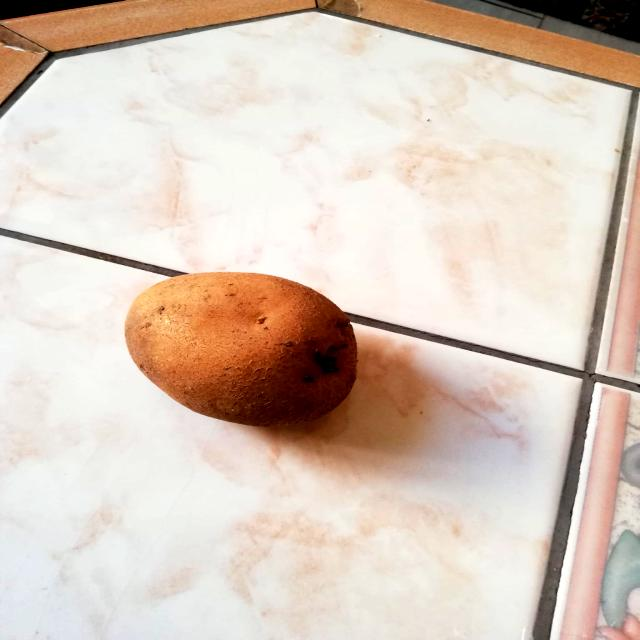potato: (118, 260, 365, 436)
